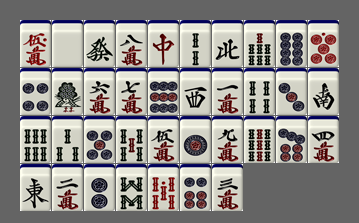0m: (20, 20, 51, 67)
0p: (308, 20, 339, 67)
0s: (148, 164, 179, 211)
1m: (212, 68, 243, 115)
1p: (180, 116, 211, 163)
1s: (52, 68, 83, 115)
1z: (20, 164, 51, 211)
2m: (52, 164, 83, 211)
2p: (84, 164, 115, 211)
2s: (180, 20, 211, 67)
2z: (308, 68, 339, 115)
3m: (212, 164, 243, 211)
3p: (276, 68, 307, 115)
3s: (52, 116, 83, 163)
3z: (180, 68, 211, 115)
4m: (308, 116, 339, 163)
4p: (20, 68, 51, 115)
4s: (244, 68, 275, 115)
4z: (212, 20, 243, 67)
5m: (148, 116, 179, 163)
5p: (84, 116, 115, 163)
5s: (116, 116, 147, 163)
5z: (52, 20, 83, 67)
6m: (84, 68, 115, 115)
6p: (180, 164, 211, 211)
6s: (20, 116, 51, 163)
6z: (84, 20, 115, 67)
7m: (116, 68, 147, 115)
7p: (276, 116, 307, 163)
7s: (244, 20, 275, 67)
7z: (148, 20, 179, 67)
8m: (116, 20, 147, 67)
8p: (276, 20, 307, 67)
8s: (116, 164, 147, 211)
9m: (212, 116, 243, 163)
9p: (148, 68, 179, 115)
9s: (244, 116, 275, 163)
